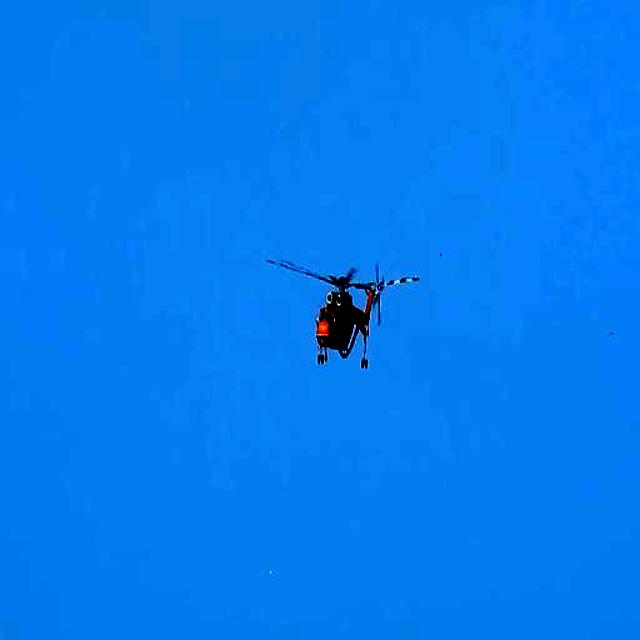drone: (268, 246, 426, 380)
